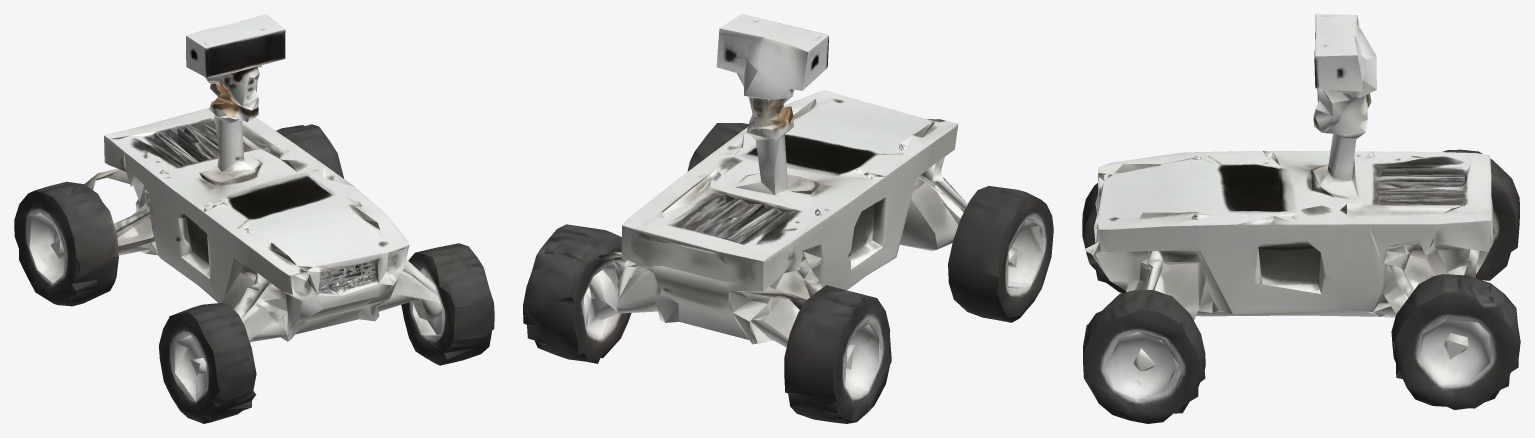
Rendered from marsRover.glb.
The picture shows the model from 3 angles, left to right: view 1: azimuth 30°, elevation 25°; view 2: azimuth 150°, elevation 25°; view 3: azimuth 270°, elevation 25°; orthographic projection. The views are drawn at different scales.
Parts seen in each view (by area): view 1: model; view 2: model; view 3: model.
Part boxes in pixels (<box>): model: <box>14,14,494,423</box>; model: <box>523,14,1053,423</box>; model: <box>1082,14,1520,423</box>.
Bounding box in the file's own units: 1.55 × 1.51 × 1.89.
Materials: 1 (1 with a texture image).
